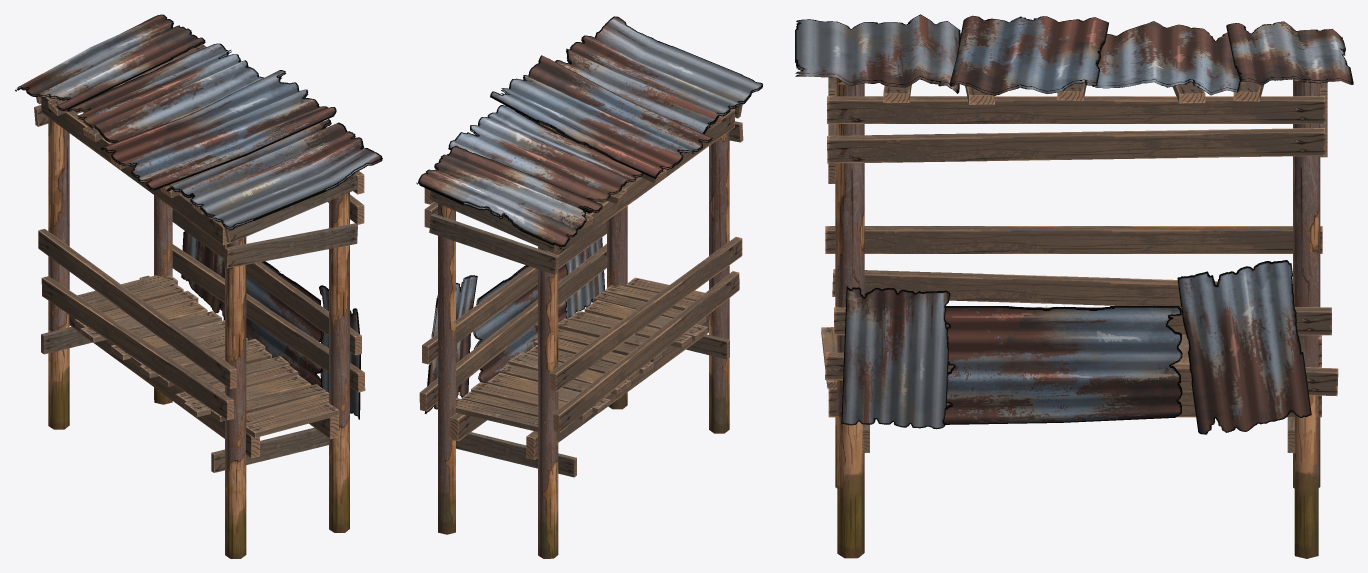
File: fenceWalk_gate_C.FBX
3 renders of one model, left to right at view 1: azimuth 30°, elevation 25°; view 2: azimuth 150°, elevation 25°; view 3: azimuth 270°, elevation 25°, orthographic. The views are drawn at different scales.
Visible parts, largest first — view 1: fenceWalk_gate_C, fenceWalk_gate_C_roof; view 2: fenceWalk_gate_C, fenceWalk_gate_C_roof; view 3: fenceWalk_gate_C, fenceWalk_gate_C_roof.
Boxes of the visible parts, x1=… form: fenceWalk_gate_C: x1=34, y1=96, x2=365, y2=558; fenceWalk_gate_C_roof: x1=15, y1=14, x2=382, y2=245; fenceWalk_gate_C: x1=419, y1=104, x2=743, y2=558; fenceWalk_gate_C_roof: x1=416, y1=16, x2=762, y2=255; fenceWalk_gate_C: x1=821, y1=77, x2=1338, y2=558; fenceWalk_gate_C_roof: x1=795, y1=14, x2=1353, y2=163.
Size of the model in its own units: 243 by 479 by 490.
